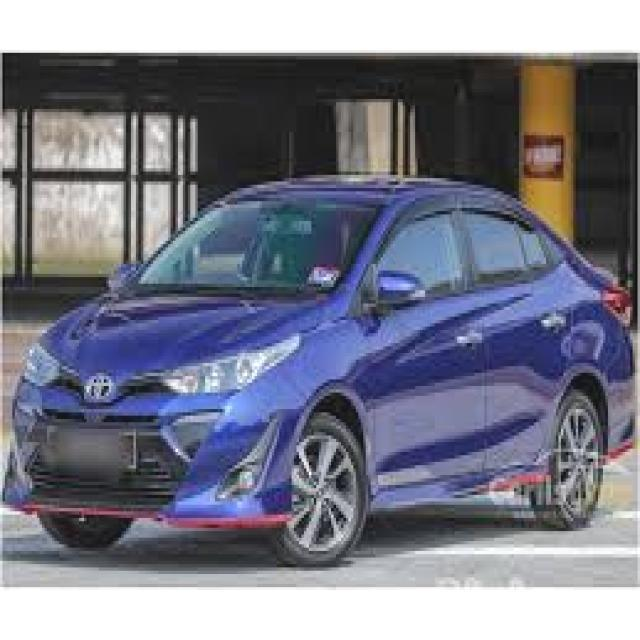ToyotaVios: (5, 172, 635, 567)
